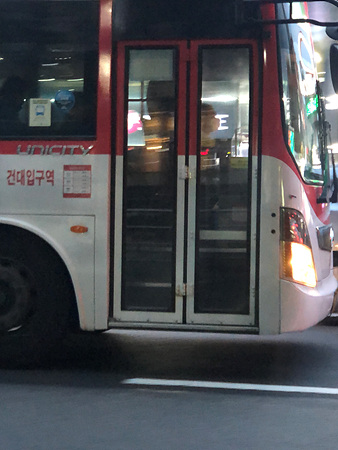entrance: (116, 40, 261, 330)
